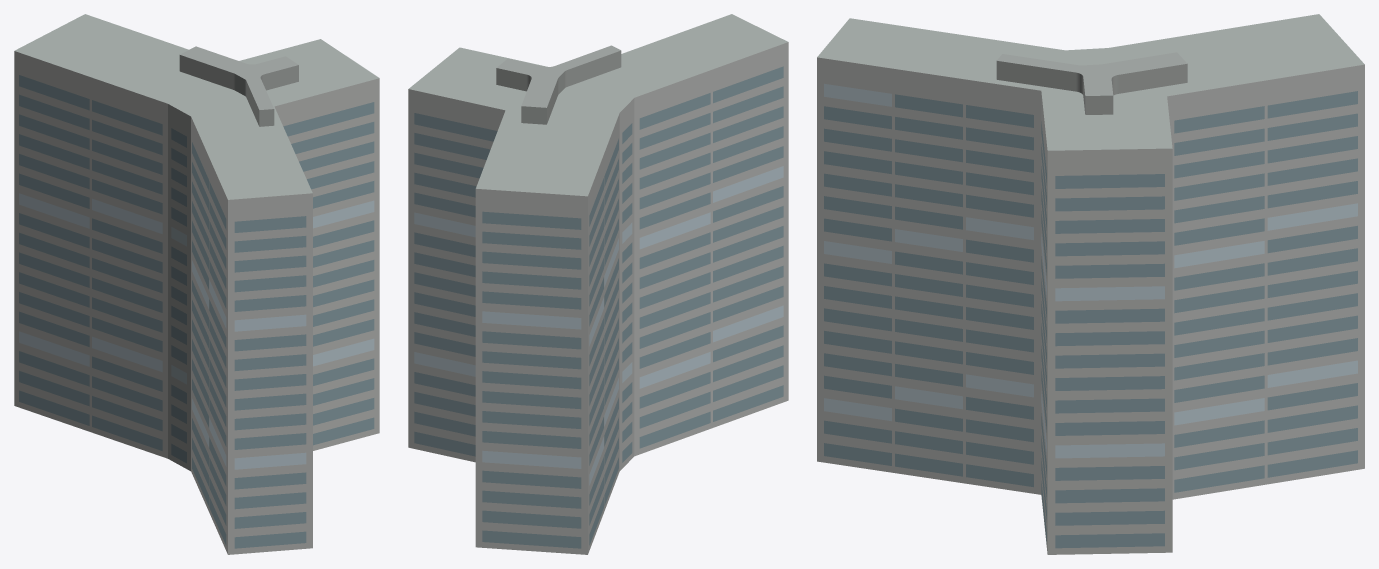
Rendered from apt-a15188801.glb.
The picture shows the model from 3 angles, left to right: view 1: azimuth 30°, elevation 25°; view 2: azimuth 150°, elevation 25°; view 3: azimuth 270°, elevation 25°; orthographic projection. The views are drawn at different scales.
Visible parts, largest first — view 1: apt-a15188801; view 2: apt-a15188801; view 3: apt-a15188801.
Part boxes in pixels (box(x1,y1,x2,y2)): apt-a15188801: box(14, 14, 379, 554); apt-a15188801: box(408, 14, 788, 554); apt-a15188801: box(817, 14, 1364, 554).
Size of the model in its own units: 35.37 by 51 by 59.85.
